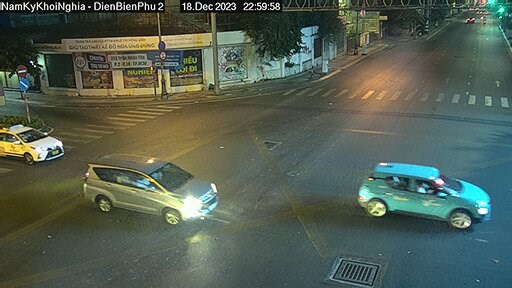car: (79, 153, 221, 232), (360, 162, 491, 235), (1, 121, 65, 166)
